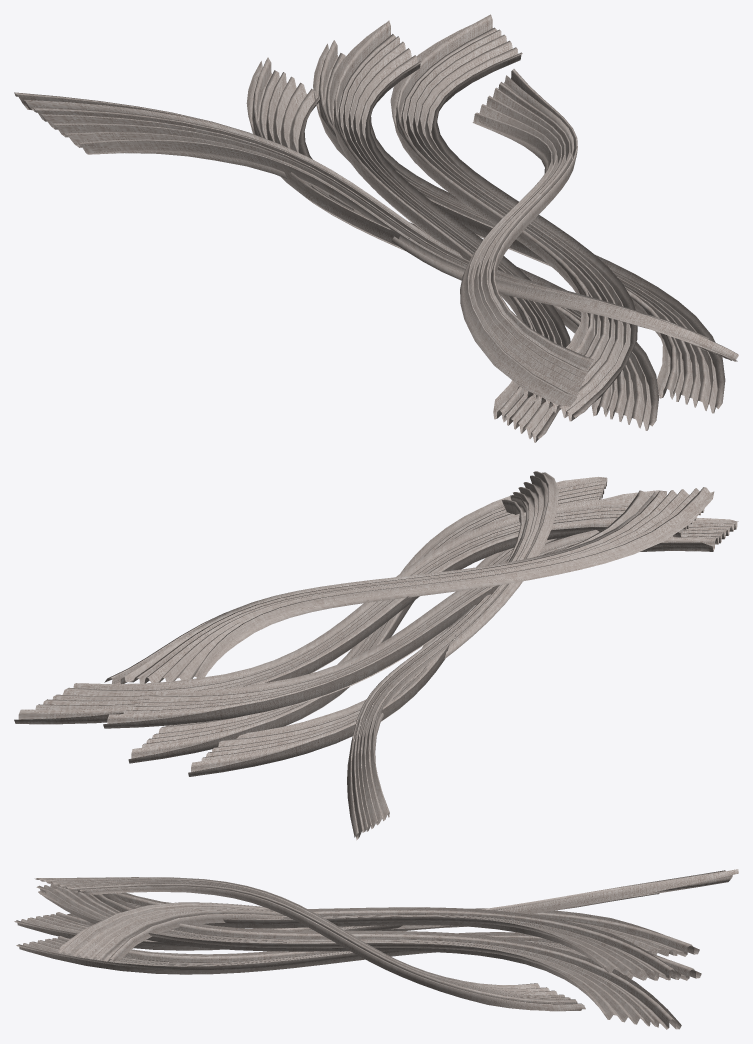
The model's file is chuanglian-zhengtimoxing-m01.FBX.
The picture shows the model from 3 angles, top to bottom: view 1: azimuth 30°, elevation 25°; view 2: azimuth 150°, elevation 25°; view 3: azimuth 270°, elevation 25°; orthographic projection. The views are drawn at different scales.
Parts seen in each view (by area): view 1: chuanglian002, chuanglian004, chuanglian005, chuanglian001, chuanglian, chuanglian003; view 2: chuanglian005, chuanglian002, chuanglian001, chuanglian004, chuanglian003, chuanglian; view 3: chuanglian002, chuanglian001, chuanglian005, chuanglian004, chuanglian003, chuanglian.
Boxes of the visible parts, left/top/right/bottom form: chuanglian002: left=390, top=14, right=637, bottom=421; chuanglian004: left=14, top=92, right=738, bottom=361; chuanglian005: left=460, top=69, right=593, bottom=406; chuanglian001: left=329, top=20, right=570, bottom=442; chuanglian: left=246, top=57, right=658, bottom=430; chuanglian003: left=313, top=40, right=725, bottom=413; chuanglian005: left=104, top=487, right=714, bottom=683; chuanglian002: left=14, top=498, right=704, bottom=724; chuanglian001: left=103, top=517, right=738, bottom=728; chuanglian004: left=347, top=471, right=558, bottom=840; chuanglian003: left=128, top=476, right=607, bottom=763; chuanglian: left=188, top=490, right=666, bottom=776; chuanglian002: left=38, top=888, right=681, bottom=1029; chuanglian001: left=36, top=884, right=680, bottom=979; chuanglian005: left=34, top=877, right=585, bottom=1011; chuanglian004: left=58, top=869, right=738, bottom=961; chuanglian003: left=16, top=932, right=701, bottom=980; chuanglian: left=14, top=908, right=699, bottom=956.
Size of the model in its own units: 53.55 by 7.79 by 106.
